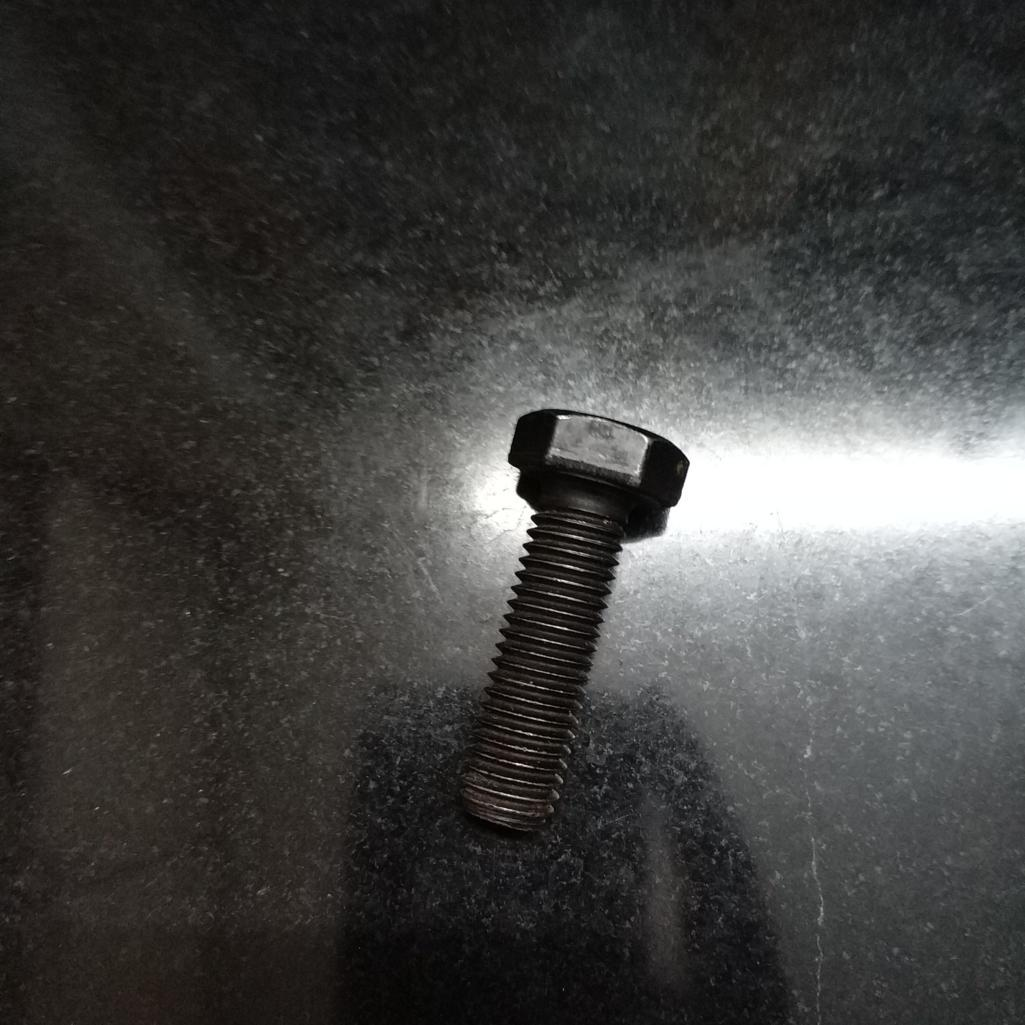screwtype2black: (465, 395, 693, 852)
